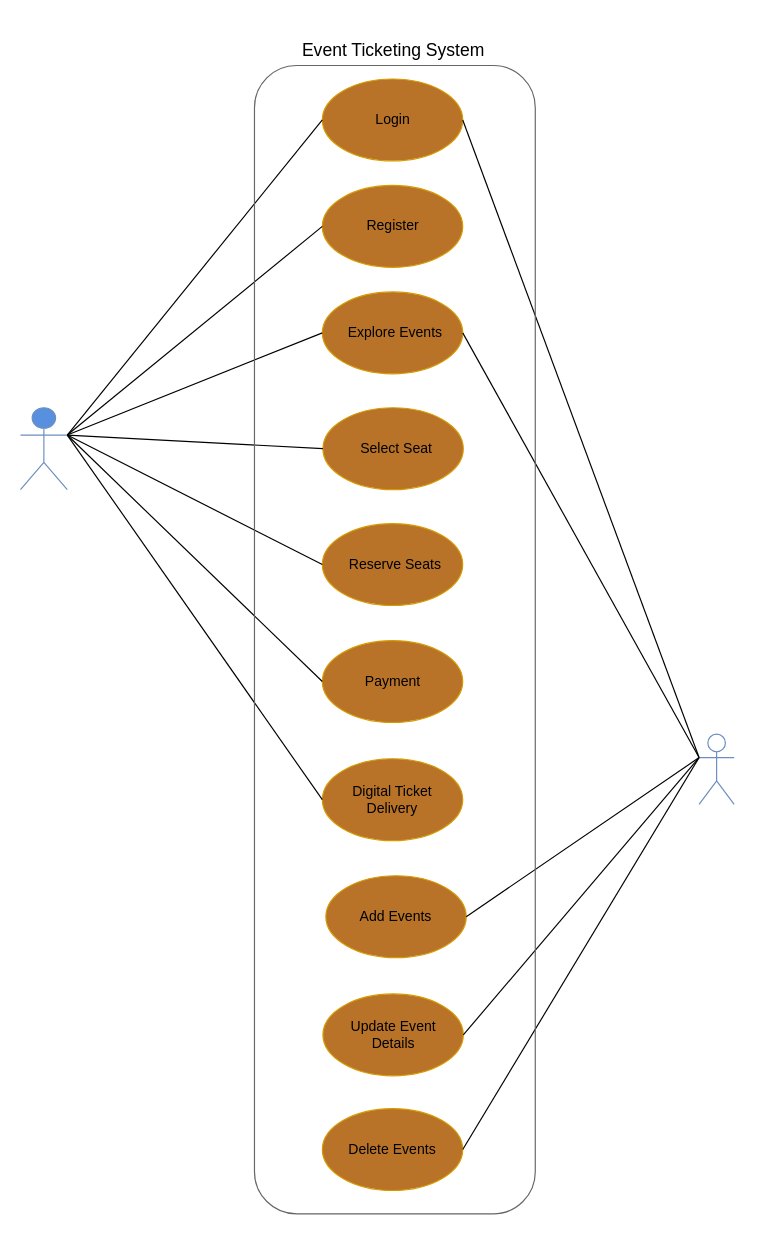
Some shapes in this 757 by 1234 pixel diagram are drawn without their labels. Each missing label, with the centre of its shape:
Admin: the point at 716,768
User: the point at 43,448
